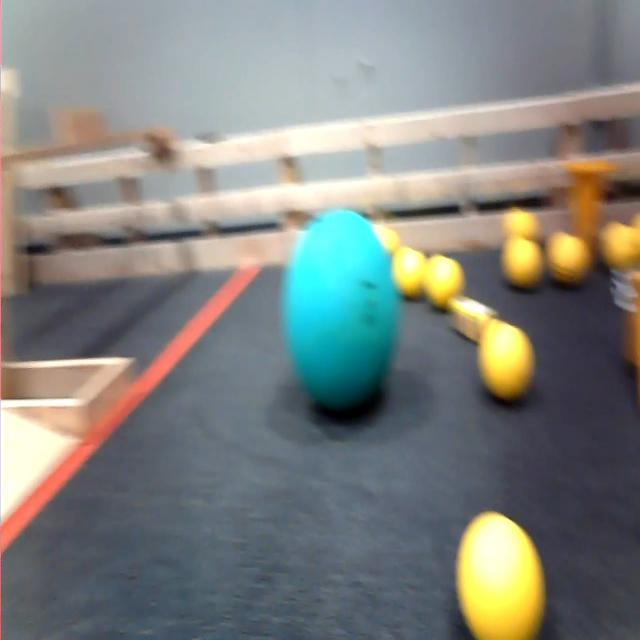fuel: (452, 503, 551, 640), (476, 313, 538, 407), (497, 226, 546, 302), (547, 224, 597, 298), (420, 249, 470, 313), (600, 206, 640, 275), (391, 242, 427, 306), (497, 204, 542, 242)
